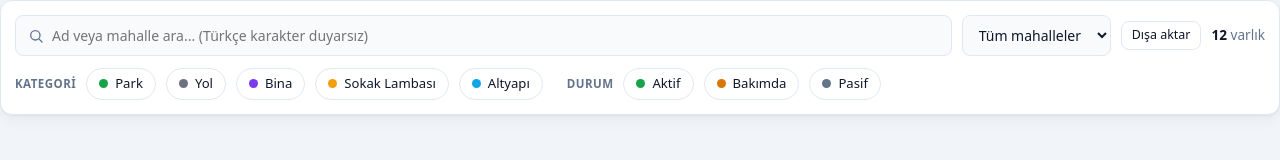
FilterBar › shows a clear button only while a filter is active and resets everything
The width and height of the screenshot is (1280, 160).
Expected: the button "Temizle" is not shown
Step 1. Type "park" into the search field with placeholder "Ad veya mahalle ara... (Türkçe karakter duyarsız)" → point(495, 36), box [52,16,939,55]
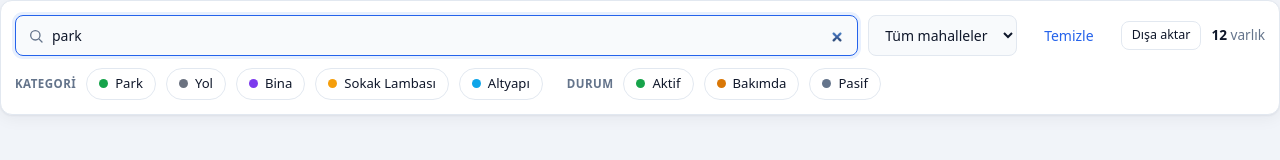
Step 2. Click the button "Bakımda" → point(751, 84), box [704,68,799,100]
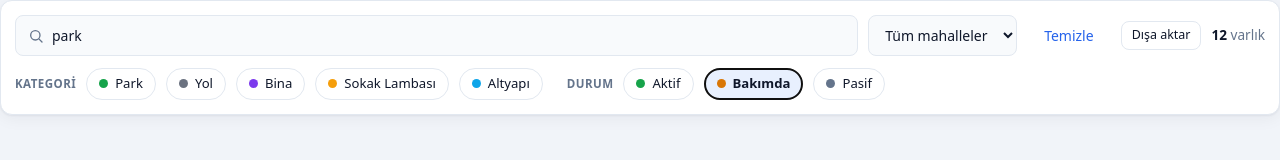
Step 3. Click the button "Temizle" → point(1069, 36), box [1027,15,1111,56]
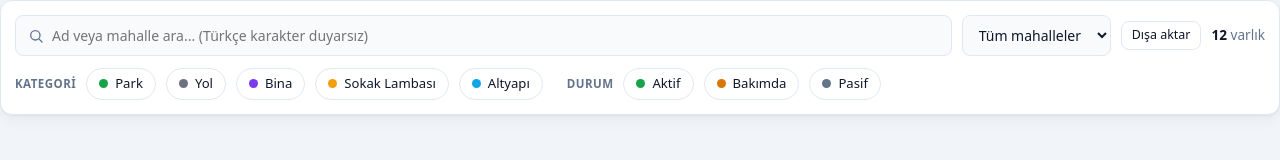
Result: the button "Temizle" is gone
